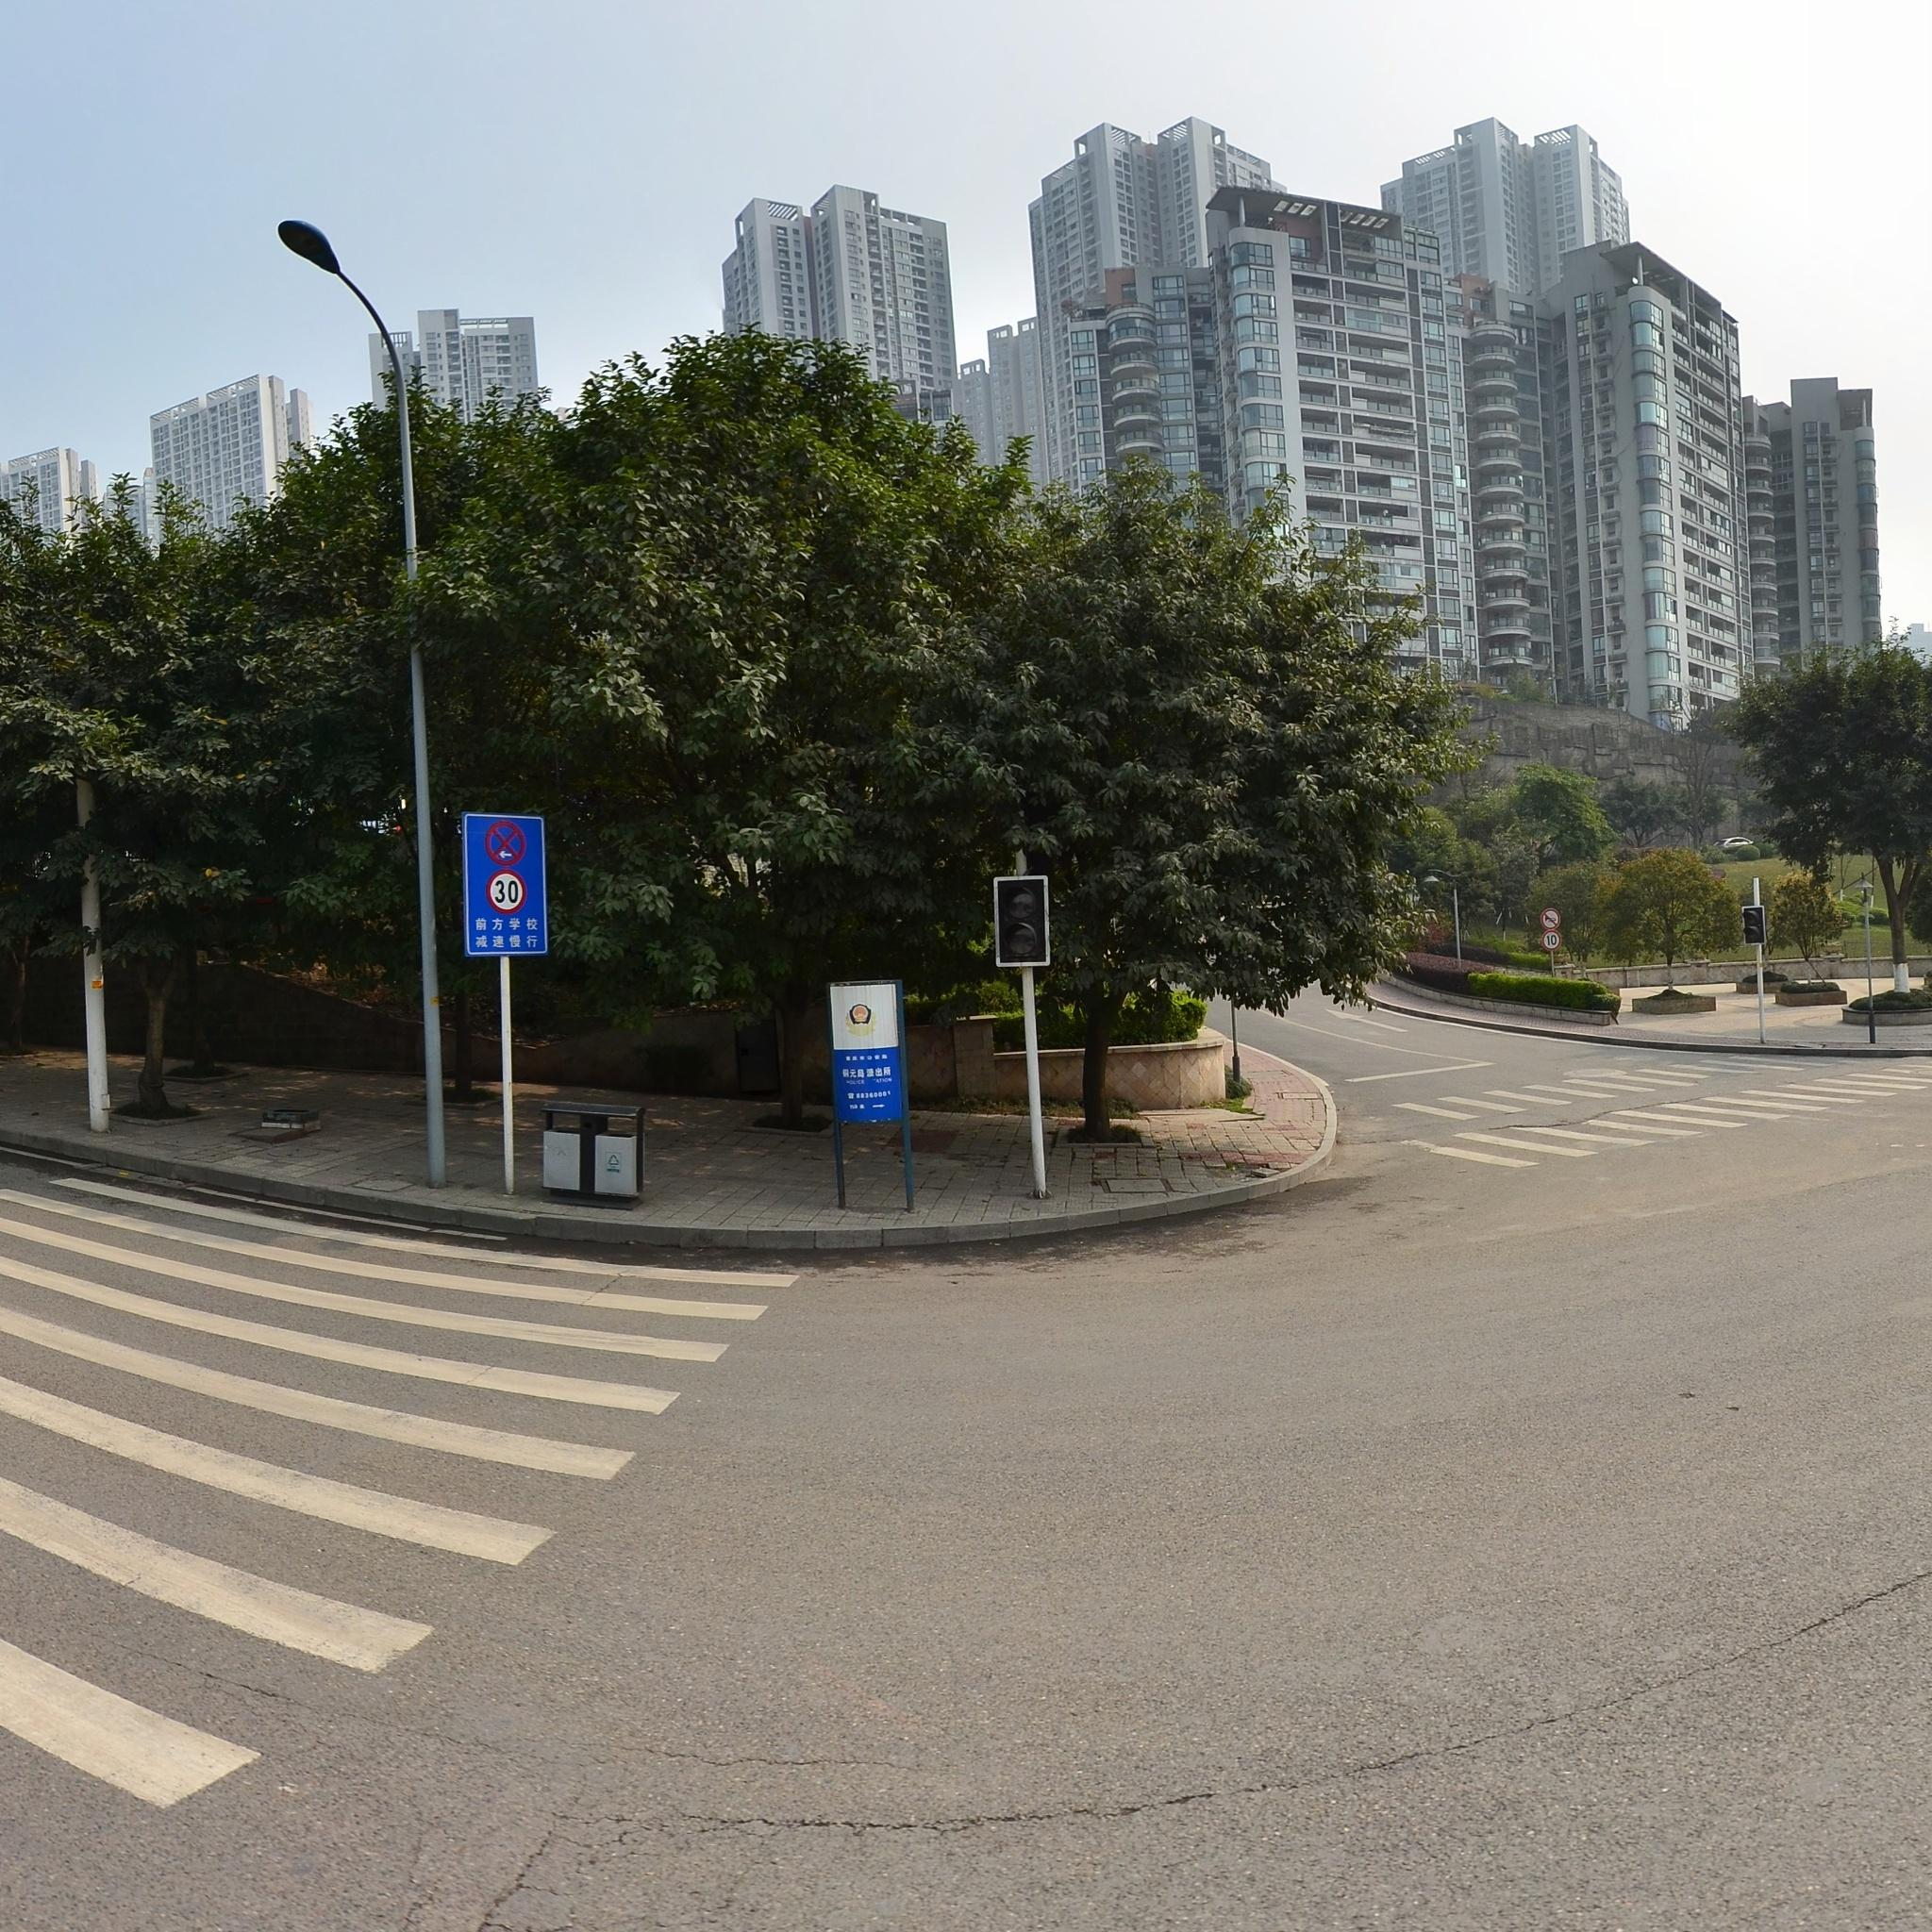p11: (1541, 908, 1560, 929)
pl30: (490, 872, 524, 908)
pn: (481, 826, 531, 862)
